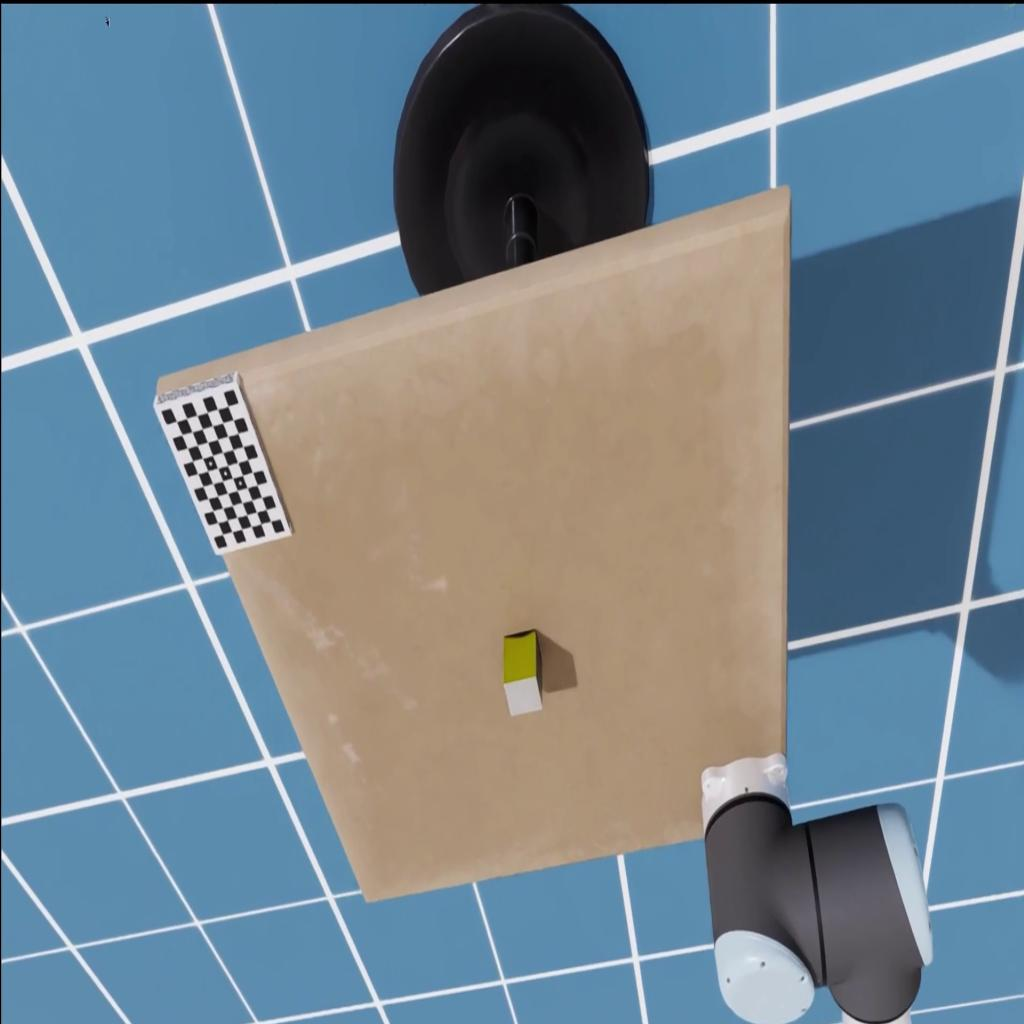Cube: (502, 630, 542, 716)
QR: (152, 370, 293, 558)
Robot: (700, 754, 934, 1024)
Table: (154, 184, 790, 901)
